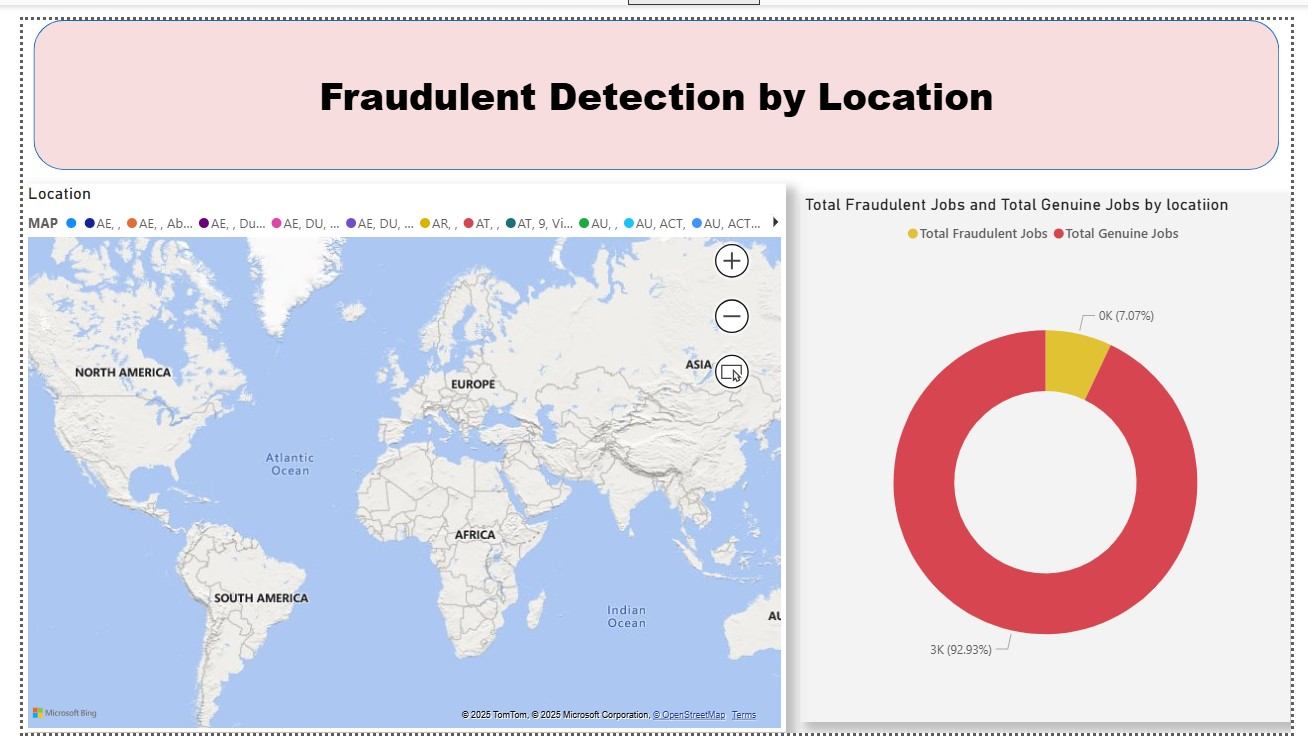

This screenshot's page, from the dashboard's own definition file:
{"tool":"powerbi","page":{"name":"Location","canvas":[1280,720],"ordinal":1},"visuals":[{"type":"map","title":"Location","fields":{"Category":["fraud_predictions1.fraudulent_pred"],"Series":["fraud_predictions1.location"]},"box":[0,165,770.7,554.2],"z":0},{"type":"donutChart","title":"Total Fraudulent Jobs and Total Genuine Jobs by locatiion","fields":{"Y":["Measures (2).Total Fraudulent Jobs","Measures (2).Total Genuine Jobs"]},"box":[784.4,175.6,495.1,533],"z":1000},{"type":"shape","box":[10.6,0,1258.3,151.4],"z":2000}]}

Visuals, with their boxes in screenshot pixels (x1, y1, x2, y2), scaled from the page's 1280x720 canvas onto the 1308x753 screenshot:
"Location" map: Rect(0, 173, 788, 752)
"Total Fraudulent Jobs and Total Genuine Jobs by locatiion" donutChart: Rect(802, 184, 1307, 741)
shape: Rect(11, 0, 1297, 158)
